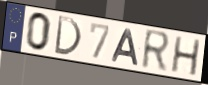0: (24, 12, 55, 53)
7: (89, 21, 112, 61)
A: (110, 28, 140, 68)
D: (53, 14, 83, 58)
H: (169, 35, 202, 78)
R: (140, 27, 173, 74)
